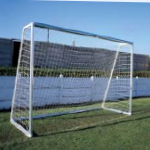goals: (11, 21, 135, 138)
